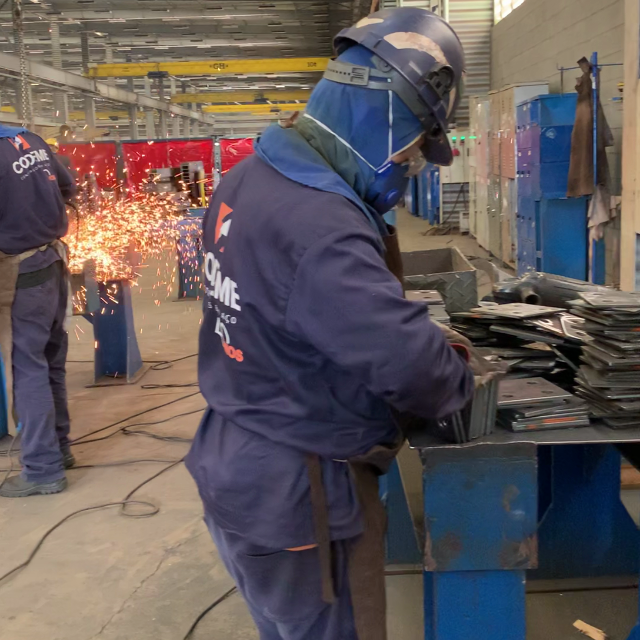helmet: (328, 5, 468, 123)
person: (179, 5, 477, 620)
